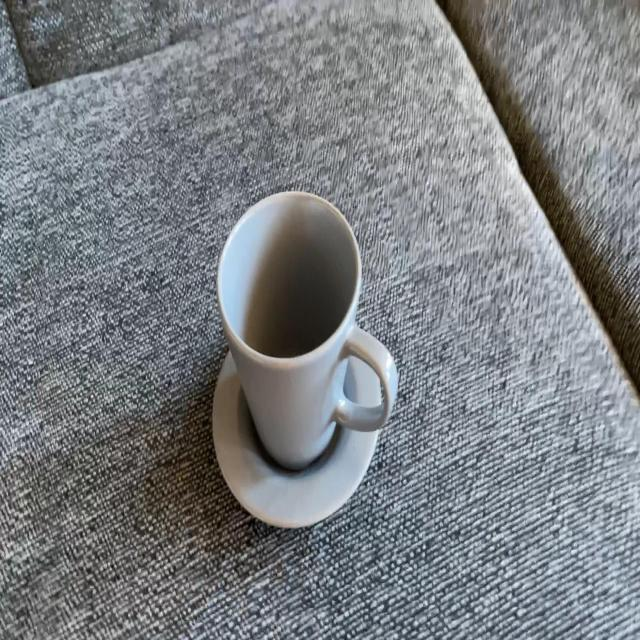cup: (216, 189, 398, 470)
